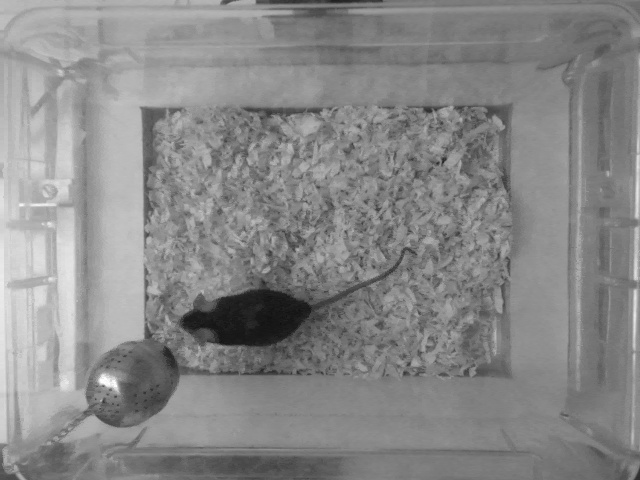mice: (172, 241, 420, 345)
